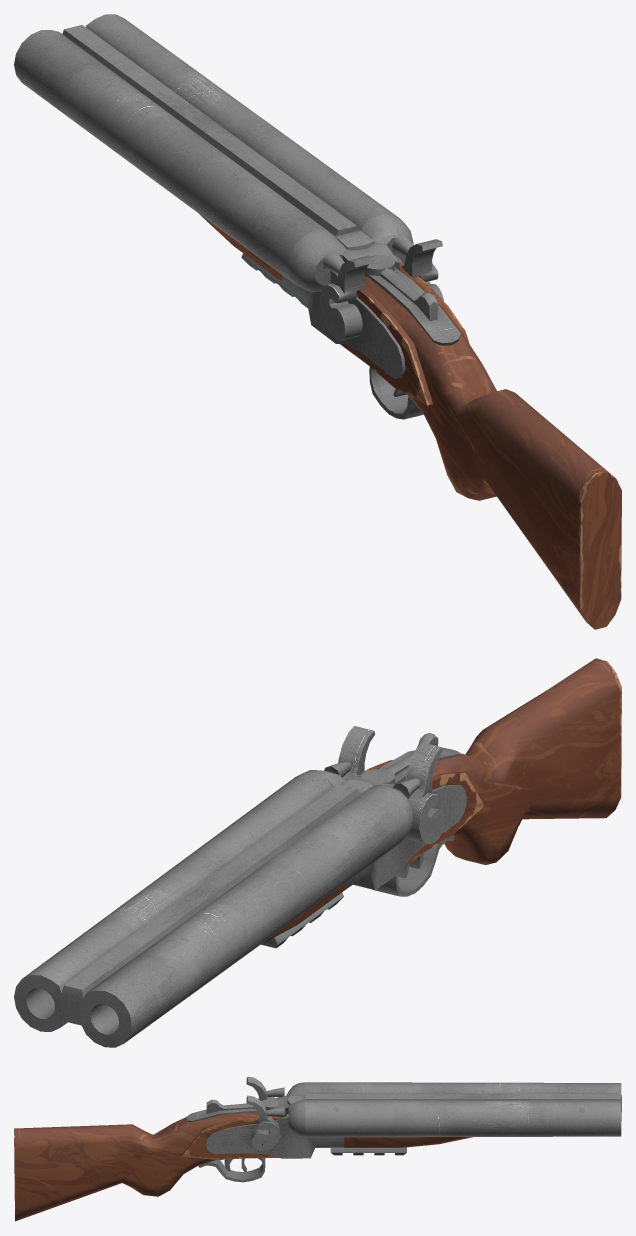
File: IG_Gun_TOZ66_Fire.fbx
The picture shows the model from 3 angles, top to bottom: view 1: azimuth 30°, elevation 25°; view 2: azimuth 150°, elevation 25°; view 3: azimuth 270°, elevation 25°; orthographic projection. The views are drawn at different scales.
Visible parts, largest first — view 1: Pfb_WPN_TOZ66_L_1; view 2: Pfb_WPN_TOZ66_L_1, ShowIf_Grip; view 3: Pfb_WPN_TOZ66_L_1, ShowIf_Grip.
Boxes of the visible parts, x1,y1,x2,y2 form: Pfb_WPN_TOZ66_L_1: (14,14,621,629); Pfb_WPN_TOZ66_L_1: (14,658,621,1047); ShowIf_Grip: (261,892,343,948); Pfb_WPN_TOZ66_L_1: (14,1076,621,1221); ShowIf_Grip: (330,1147,406,1155).
Bounding box in the file's own units: 0.1754 × 0.3179 × 1.34.
